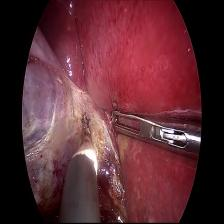Grasper: (109, 100, 202, 164)
Hook: (64, 113, 103, 179)
